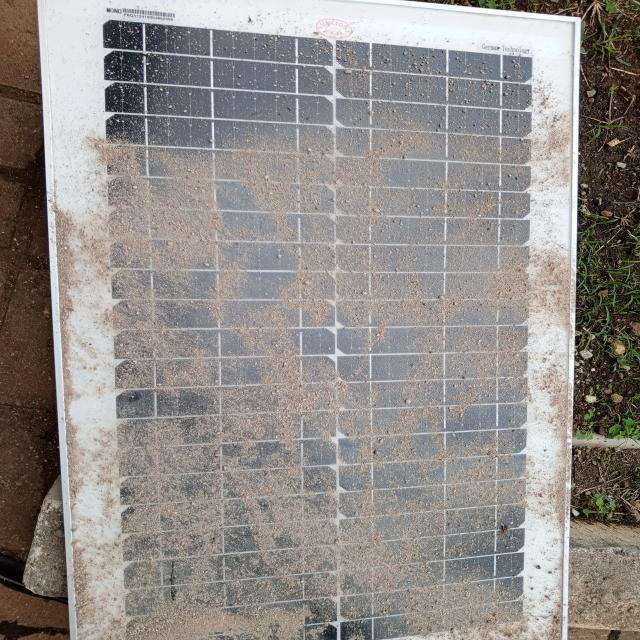Anomaly Solar Panel: (58, 10, 551, 638)
Surface Contaminant: (98, 46, 568, 639)
